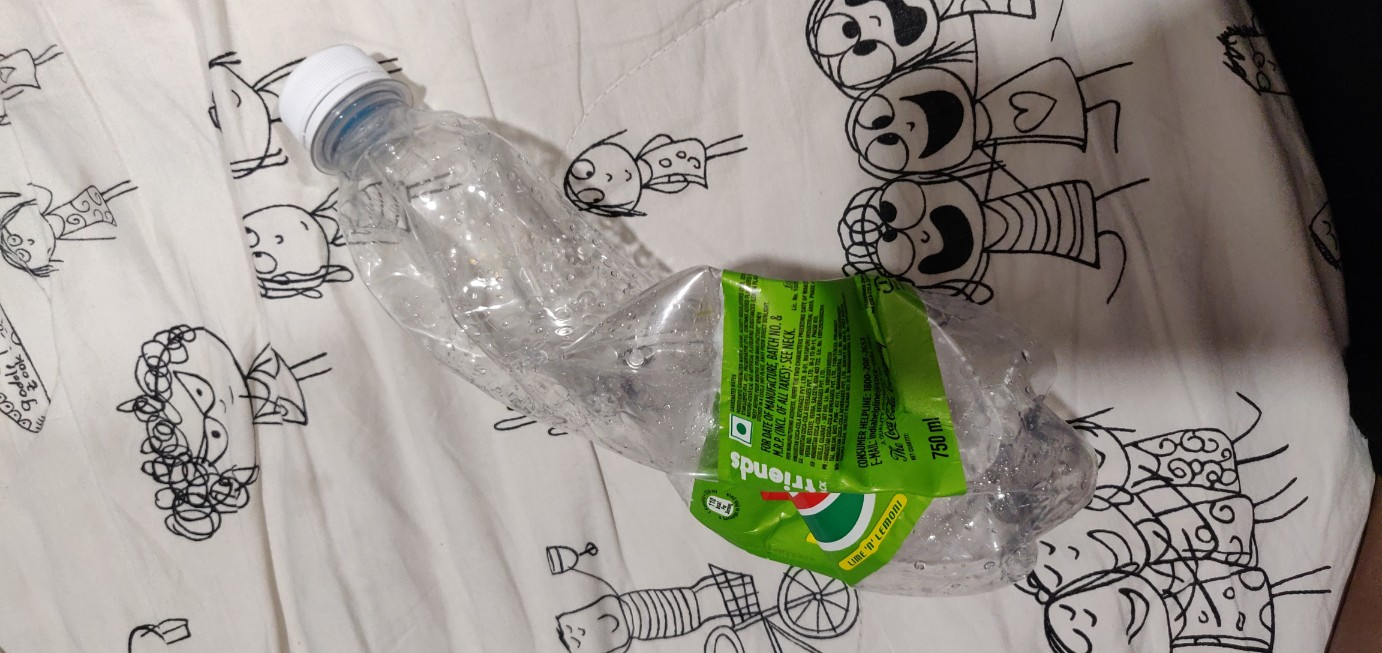Electronics: (251, 26, 1148, 629)
